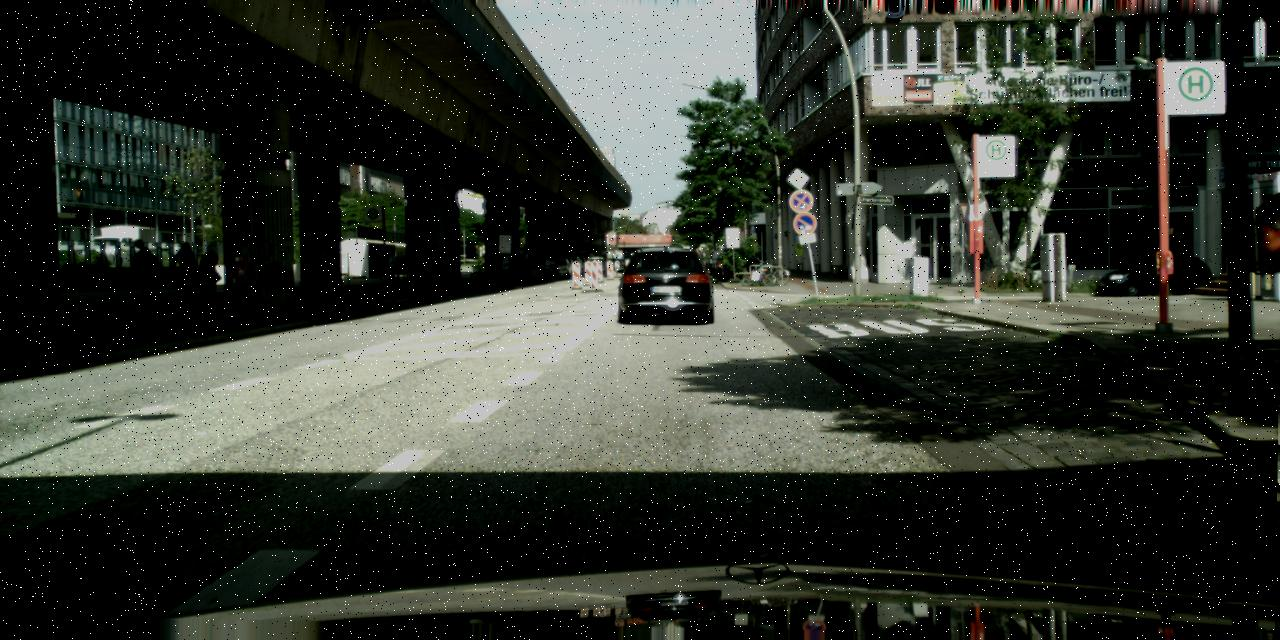ped: (128, 238, 156, 308), (172, 242, 199, 310), (196, 244, 223, 310), (384, 252, 398, 287)
